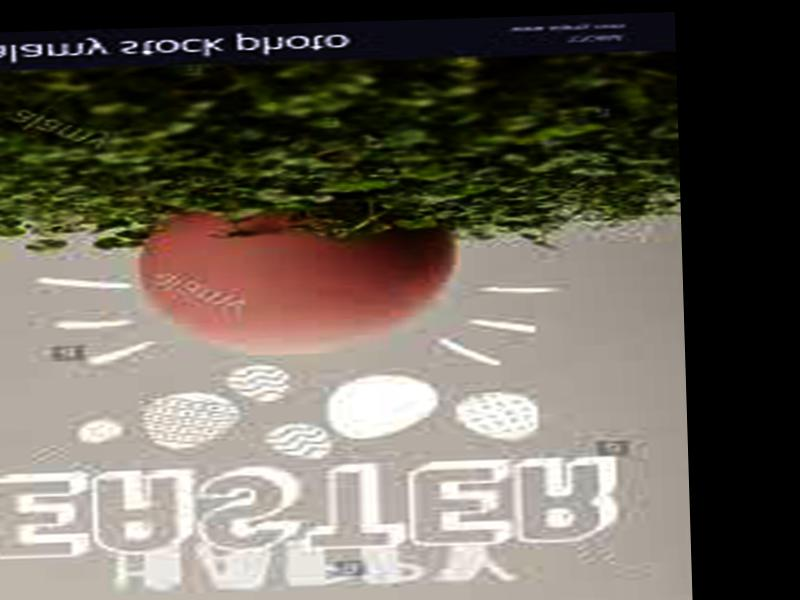Eggs: (143, 203, 463, 356)
